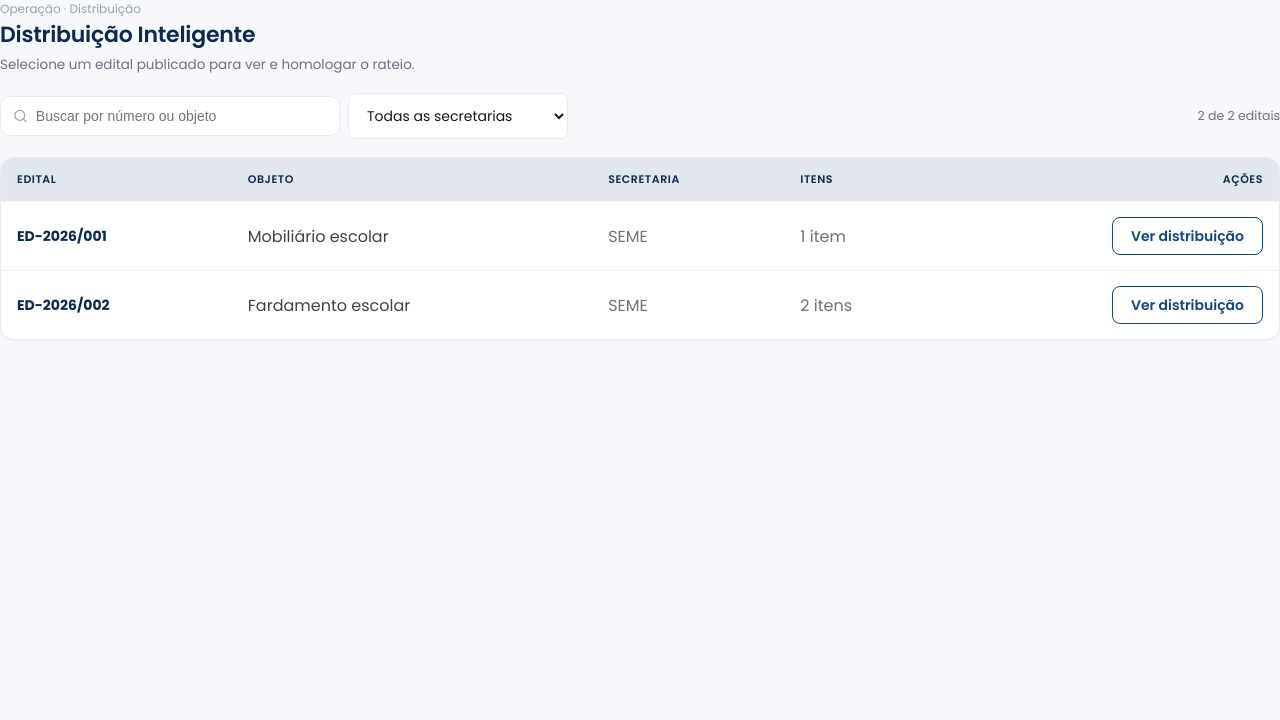
Test: DistribuicaoInteligente — Painel Admin (UC008/RN005) › mostra o chip Homologada e esconde o botão quando já congelada
Step 1. Click the button with test id "ver-distribuicao" in the row of "ED-2026/001" → (1187, 236), box top-left (1112, 217), bottom-right (1263, 255)
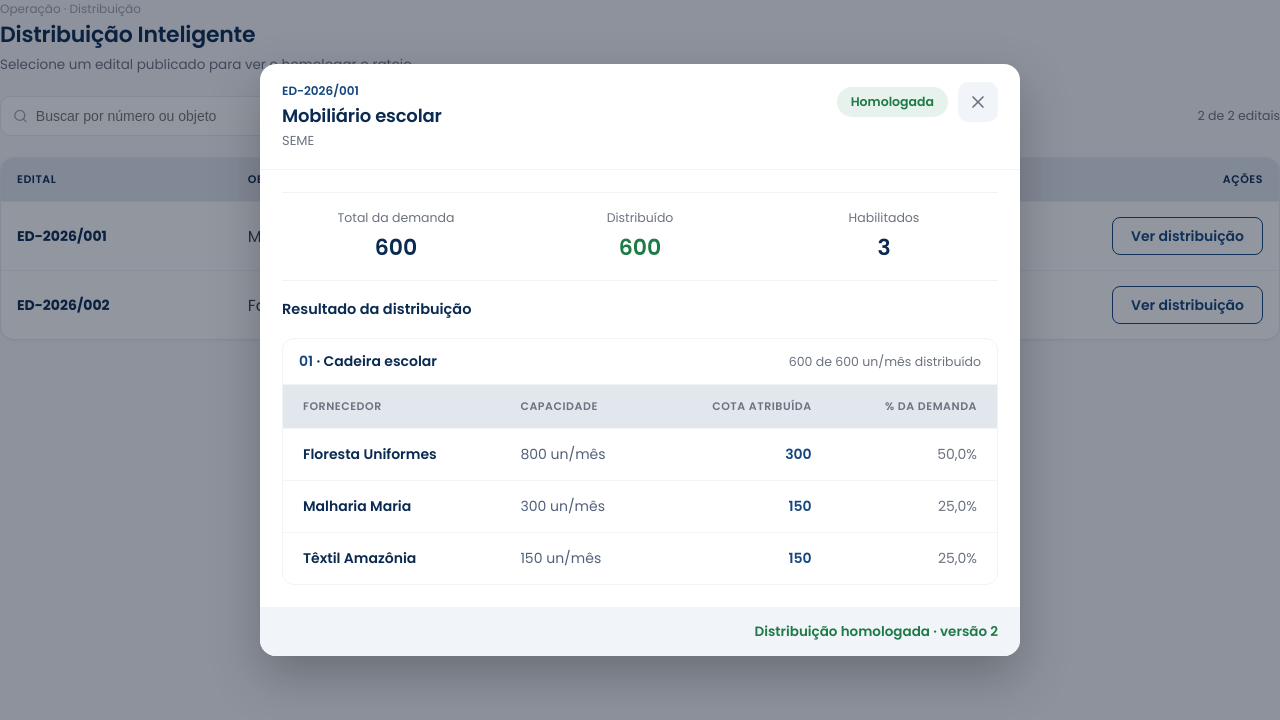
expect the text with test id "chip-situacao" reads "Homologada": met, box top-left (851, 93), bottom-right (934, 110)
